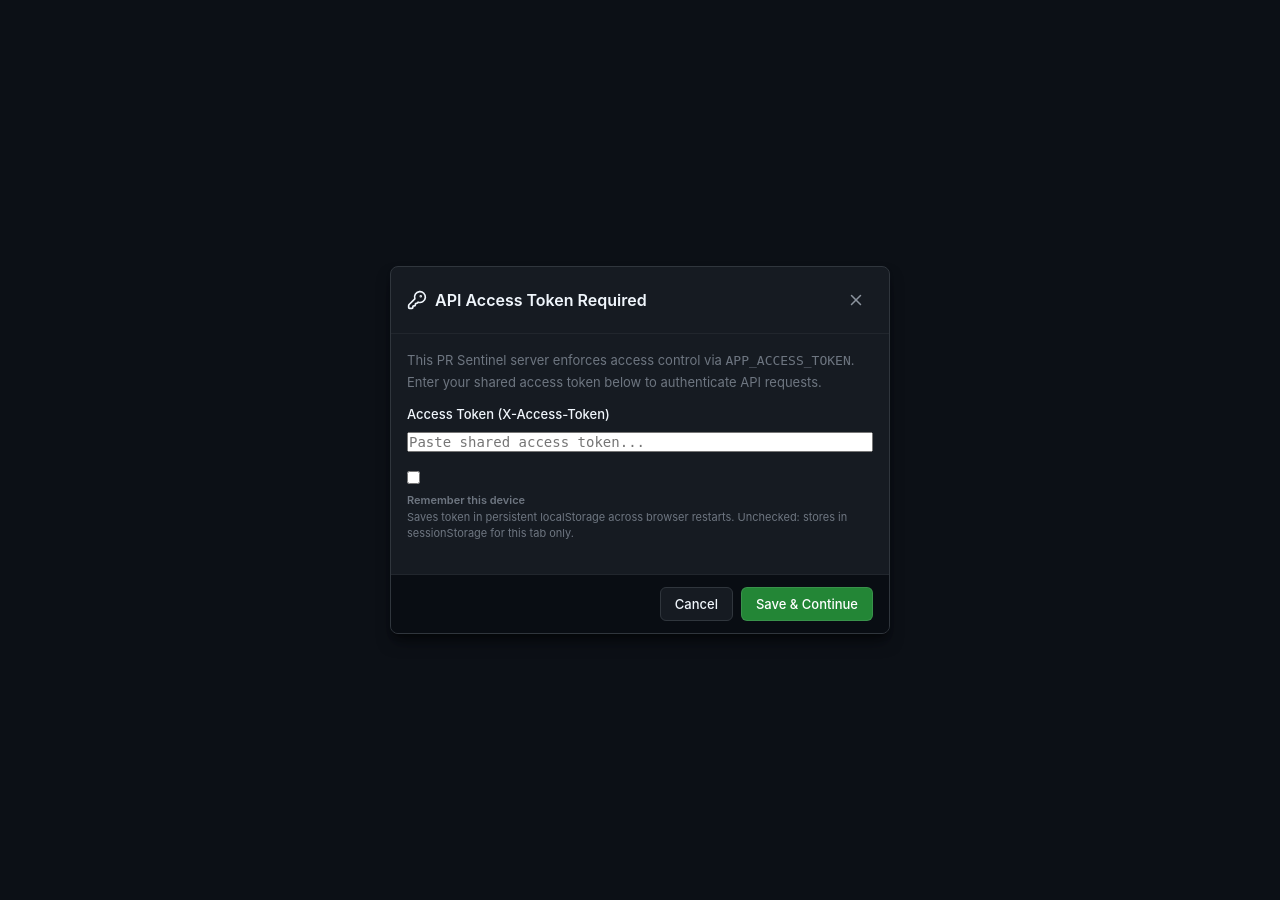
AccessTokenModal Component › saves token in localStorage and sets remember flag when "Remember this device" is checked
The width and height of the screenshot is (1280, 900).
Later steps or results of the test are not shown.
Type "persistent-token-secret-456" into the password field labelled "Access Token (X-Access-Token)" at [640, 442], box x1=407 y1=432 x2=873 y2=452
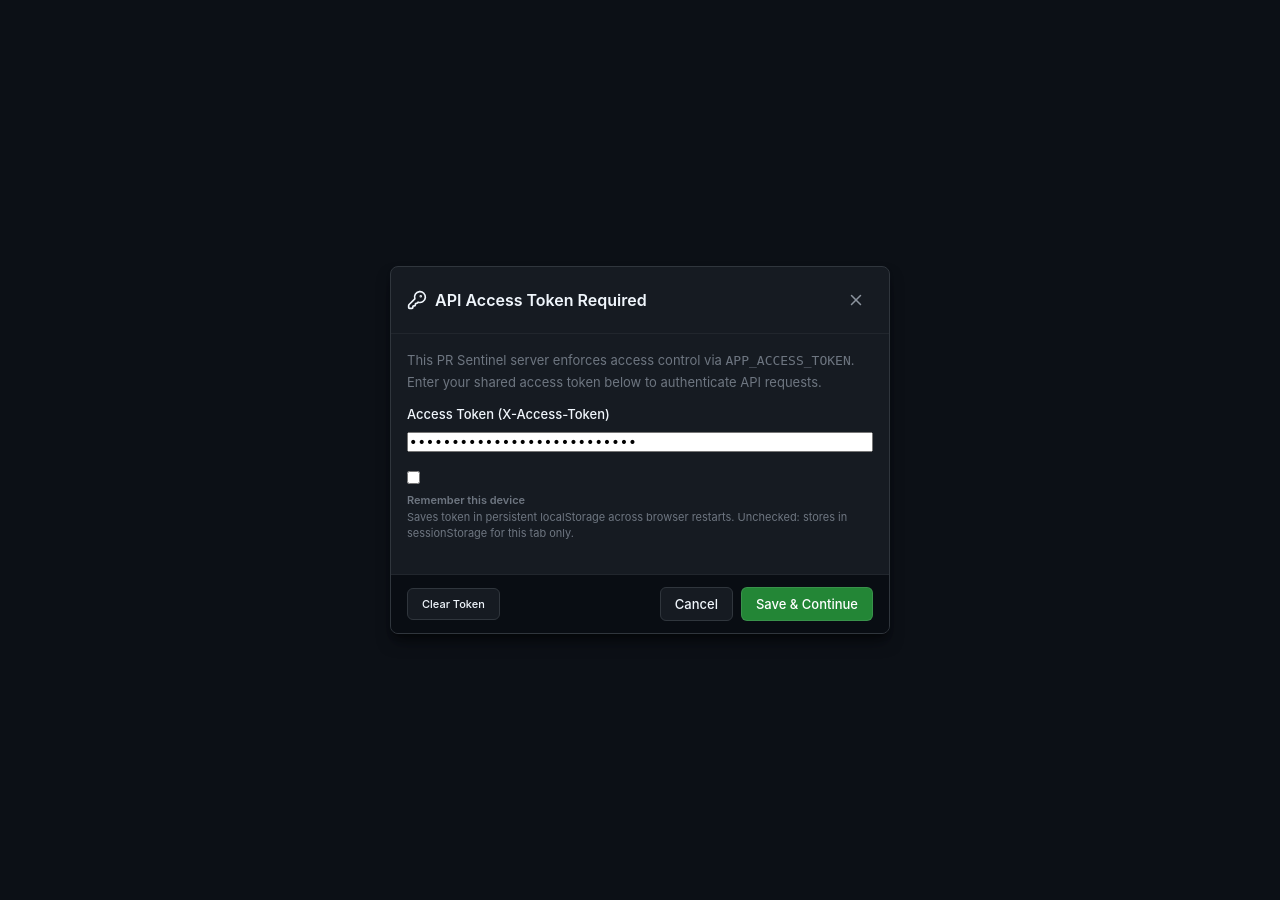
Click the checkbox with test id "remember-device-checkbox" at [414, 478], box x1=407 y1=471 x2=420 y2=484
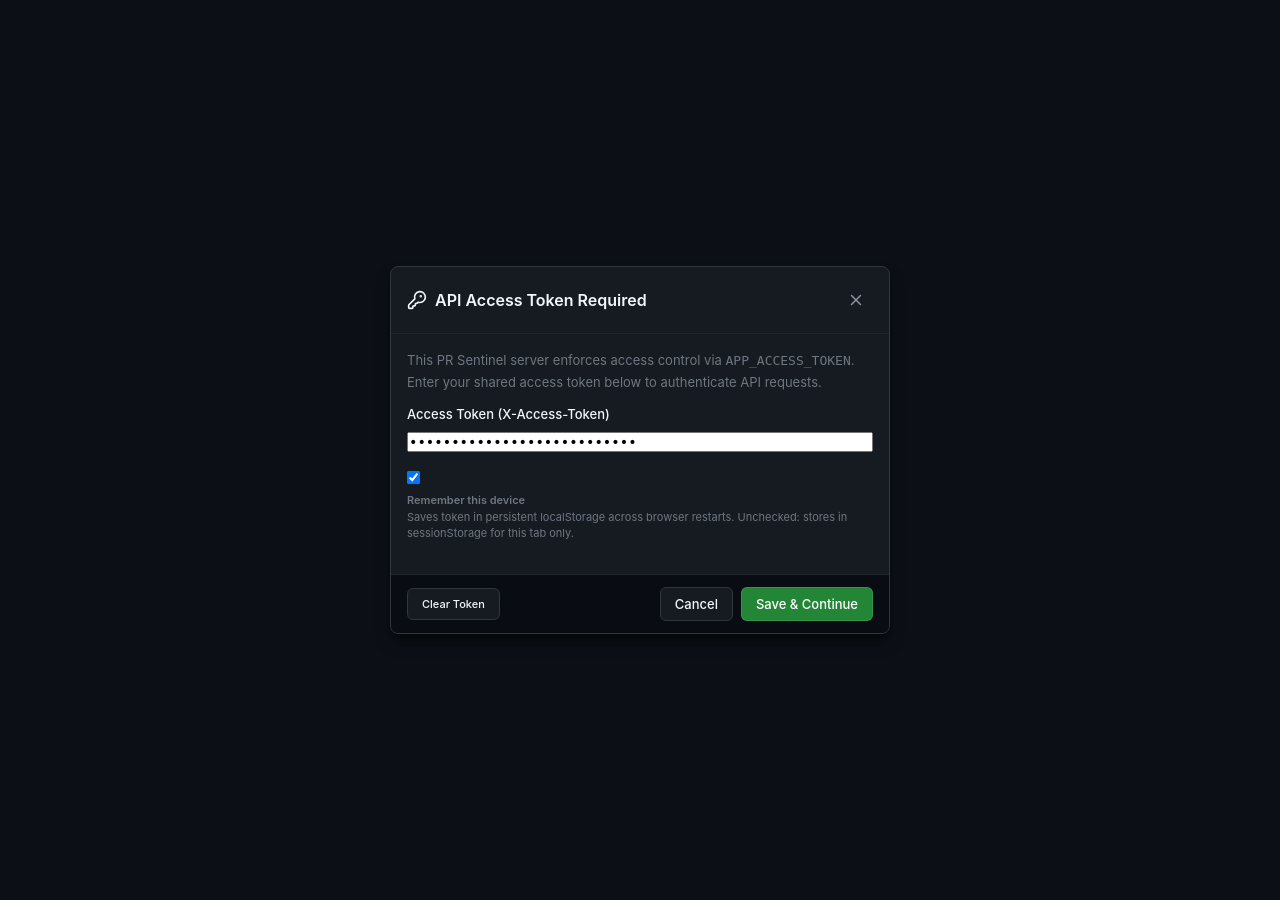
Now the checkbox with test id "remember-device-checkbox" is checked, box x1=407 y1=471 x2=420 y2=484
